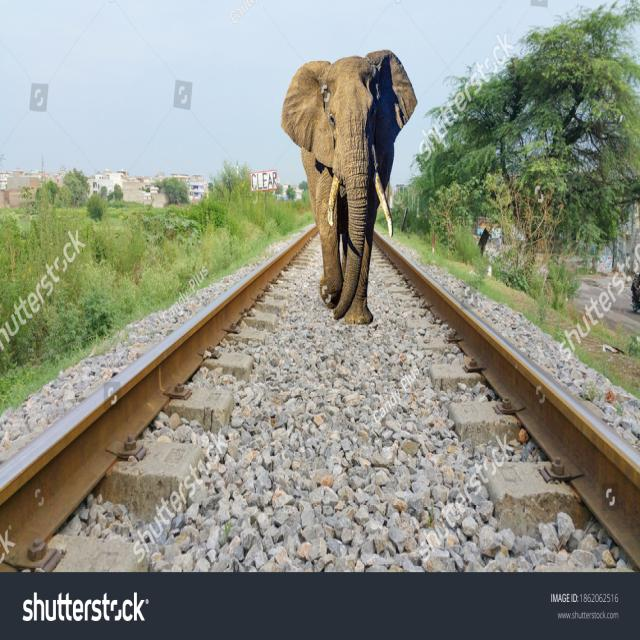Elephant: (285, 45, 420, 332)
